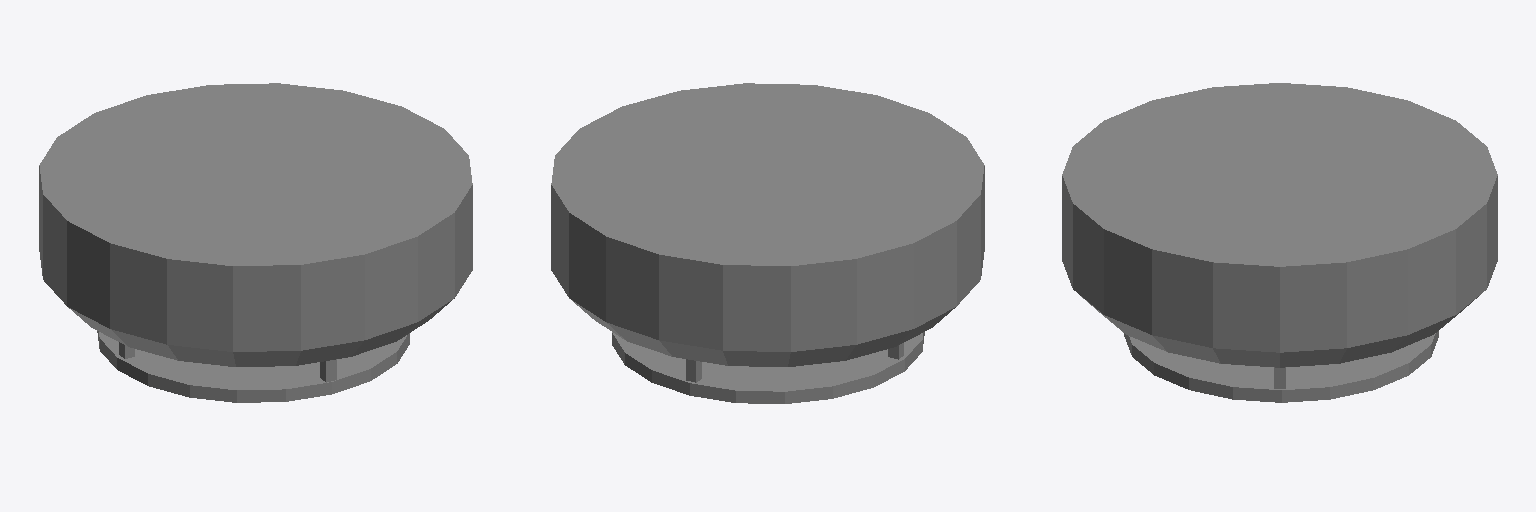
Rendered from af_smoke.obj.
The picture shows the model from 3 angles: view 1: azimuth 30°, elevation 25°; view 2: azimuth 150°, elevation 25°; view 3: azimuth 270°, elevation 25°; orthographic projection.
Visible parts, largest first — view 1: af_smoke; view 2: af_smoke; view 3: af_smoke.
Part boxes in pixels (x1,y1,x2,y2): af_smoke: (39, 83, 472, 402); af_smoke: (551, 83, 984, 403); af_smoke: (1062, 83, 1497, 402).
Size of the model in its own units: 8.67 by 3.56 by 8.67.